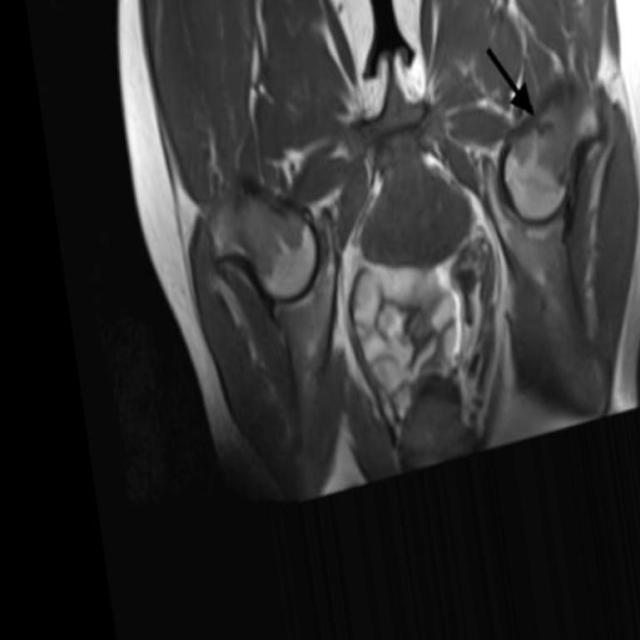Transverse Displaced: (524, 110, 570, 161)
